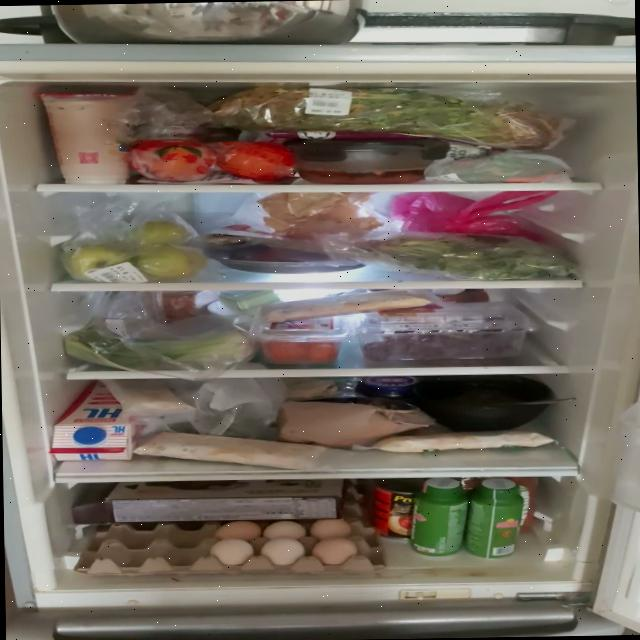apple: (63, 218, 208, 283)
egg: (72, 518, 388, 576)
grape: (360, 316, 520, 362)
leafy_greens: (215, 82, 560, 155), (353, 232, 578, 282)
orange: (128, 136, 296, 182)
pakchoy: (64, 326, 250, 369)
tempeh: (132, 428, 329, 474), (260, 289, 433, 323), (372, 428, 556, 453), (99, 378, 198, 417)
unknown_bag: (388, 190, 560, 240), (423, 148, 572, 184)
